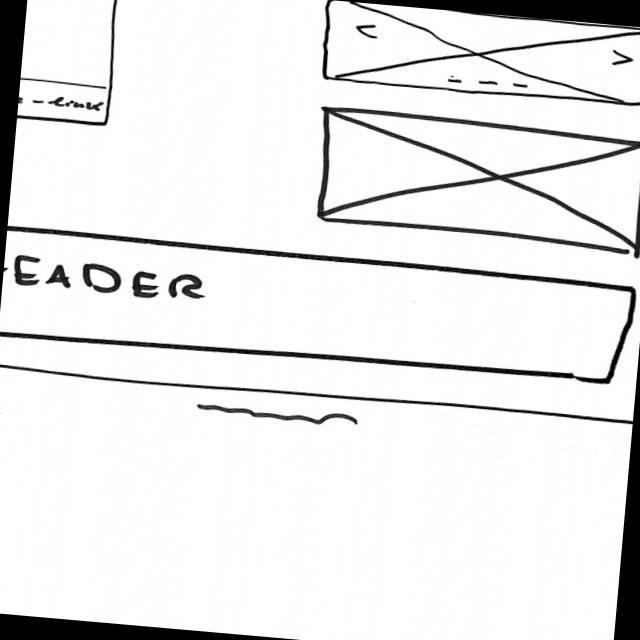container: (1, 224, 636, 392), (17, 1, 121, 128)
image: (309, 104, 640, 258), (320, 1, 640, 111)
label: (3, 251, 210, 305), (19, 89, 102, 116)
text: (194, 399, 361, 433)
